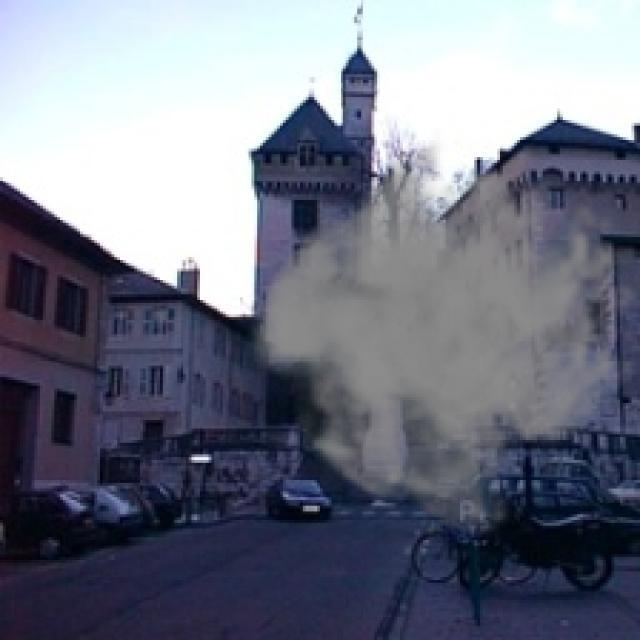Smoke: (245, 128, 638, 543)
